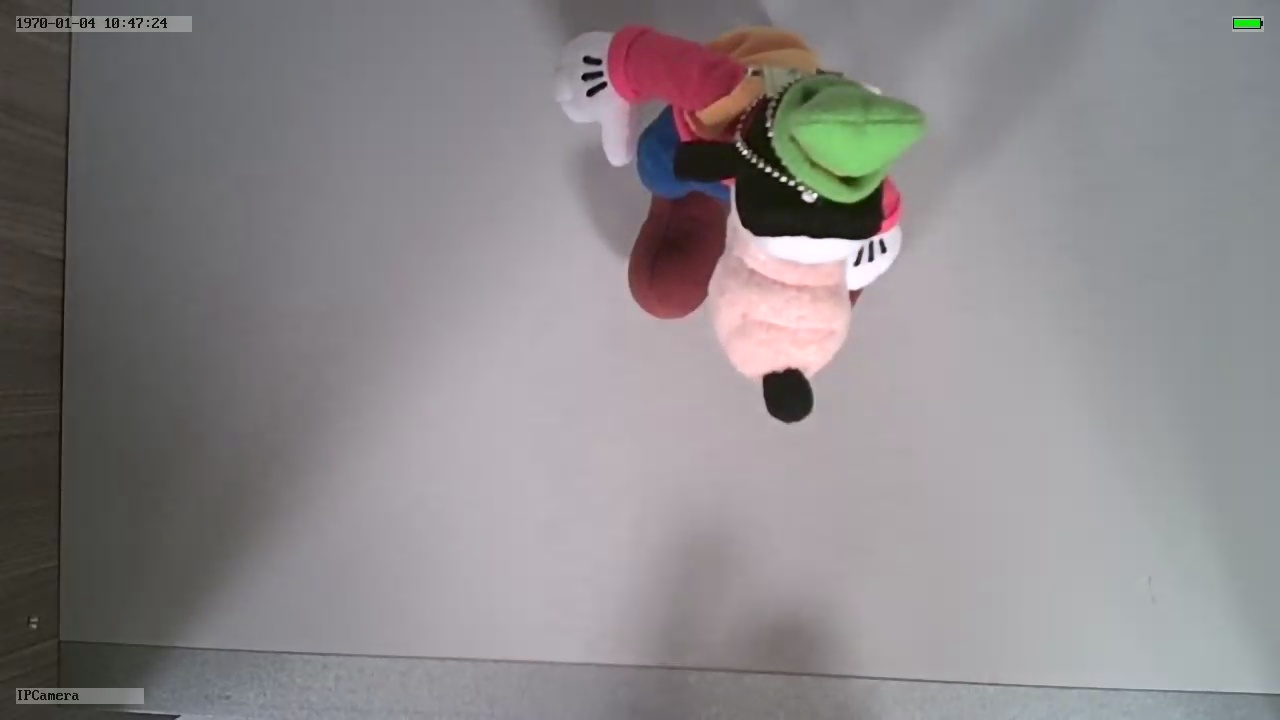goofy: (549, 22, 931, 426)
